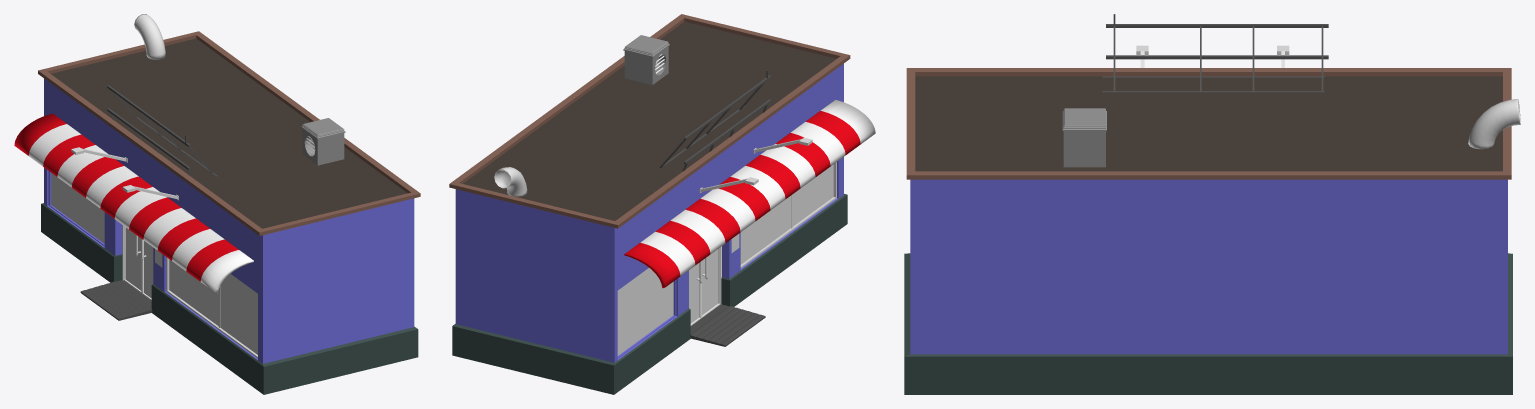
The model's file is Tienda 2.fbx.
3 renders of one model, left to right at view 1: azimuth 30°, elevation 25°; view 2: azimuth 150°, elevation 25°; view 3: azimuth 270°, elevation 25°, orthographic. The views are drawn at different scales.
Visible parts, largest first — view 1: Cube.044, Circle.005, Cube.043, Cube.040, Cube.041, Cube.024, Cube.020, Circle.004, Cube.037, Cube.035; view 2: Cube.044, Circle.005, Cube.043, Cube.040, Cube.041, Cube.024, Cube.020, Cube.035, Circle.004, Cube.037; view 3: Cube.044, Cube.043, Cube.020, Cube.024, Circle.004.
Boxes of the visible parts, x1,y1,x2,y2 form: Cube.044: (41, 38, 418, 394); Circle.005: (14, 113, 253, 293); Cube.043: (38, 31, 420, 235); Cube.040: (166, 257, 257, 358); Cube.041: (80, 280, 152, 320); Cube.024: (301, 118, 345, 165); Cube.020: (107, 85, 217, 176); Circle.004: (134, 14, 165, 59); Cube.037: (125, 227, 141, 290); Cube.035: (144, 241, 153, 298); Cube.044: (452, 21, 847, 394); Circle.005: (624, 100, 875, 288); Cube.043: (449, 14, 850, 228); Cube.040: (740, 162, 836, 268); Cube.041: (690, 304, 765, 346); Cube.024: (623, 35, 669, 84); Cube.020: (658, 70, 771, 171); Cube.035: (702, 249, 718, 315); Circle.004: (494, 167, 527, 196); Cube.037: (689, 263, 699, 323); Cube.044: (904, 76, 1512, 394); Cube.043: (906, 68, 1511, 179); Cube.020: (1102, 14, 1328, 92); Cube.024: (1062, 108, 1106, 167); Circle.004: (1468, 99, 1520, 149).
Bounding box in the file's own units: 1555 × 1443 × 2906.
